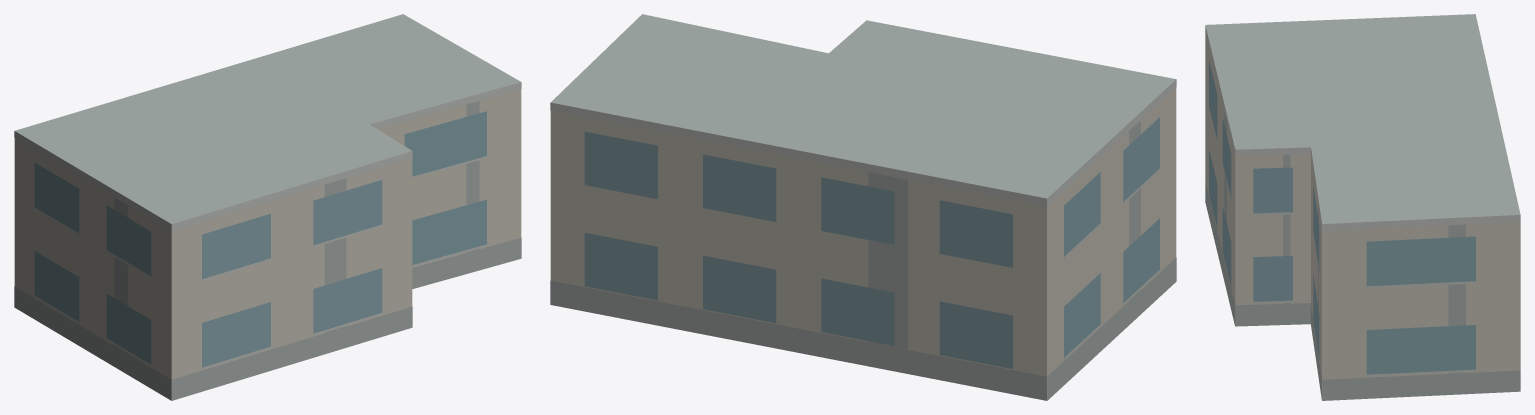
File: survey-upis-32751469.glb
3 renders of one model, left to right at view 1: azimuth 30°, elevation 25°; view 2: azimuth 150°, elevation 25°; view 3: azimuth 270°, elevation 25°, orthographic. The views are drawn at different scales.
Visible parts, largest first — view 1: survey-upis-32751469.tmp; view 2: survey-upis-32751469.tmp; view 3: survey-upis-32751469.tmp.
Boxes of the visible parts, bbox=[...] form: survey-upis-32751469.tmp: bbox=[14, 14, 521, 400]; survey-upis-32751469.tmp: bbox=[550, 14, 1176, 400]; survey-upis-32751469.tmp: bbox=[1205, 14, 1520, 400].
Size of the model in its own units: 15.56 by 6.1 by 9.87.
